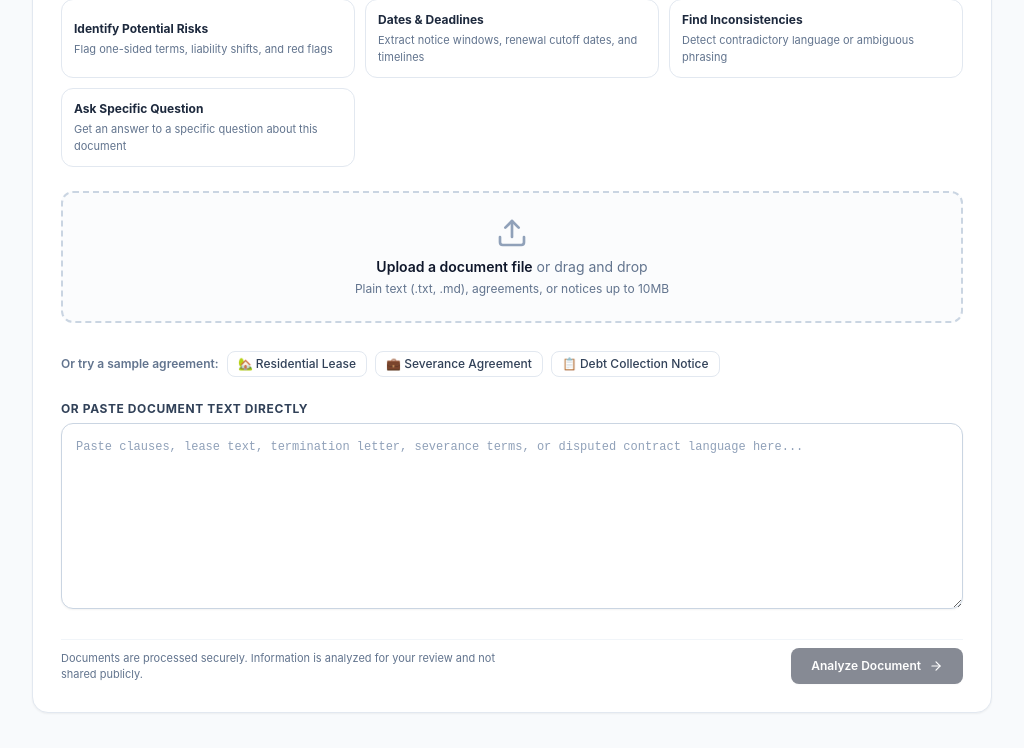
it: DocumentsPage › submits text and renders document analysis findings
The width and height of the screenshot is (1024, 748).
(page scrolled)
Load sample
Click the button "🏡 Residential Lease".
click(297, 364)  # box left=227, top=351, right=367, bottom=377
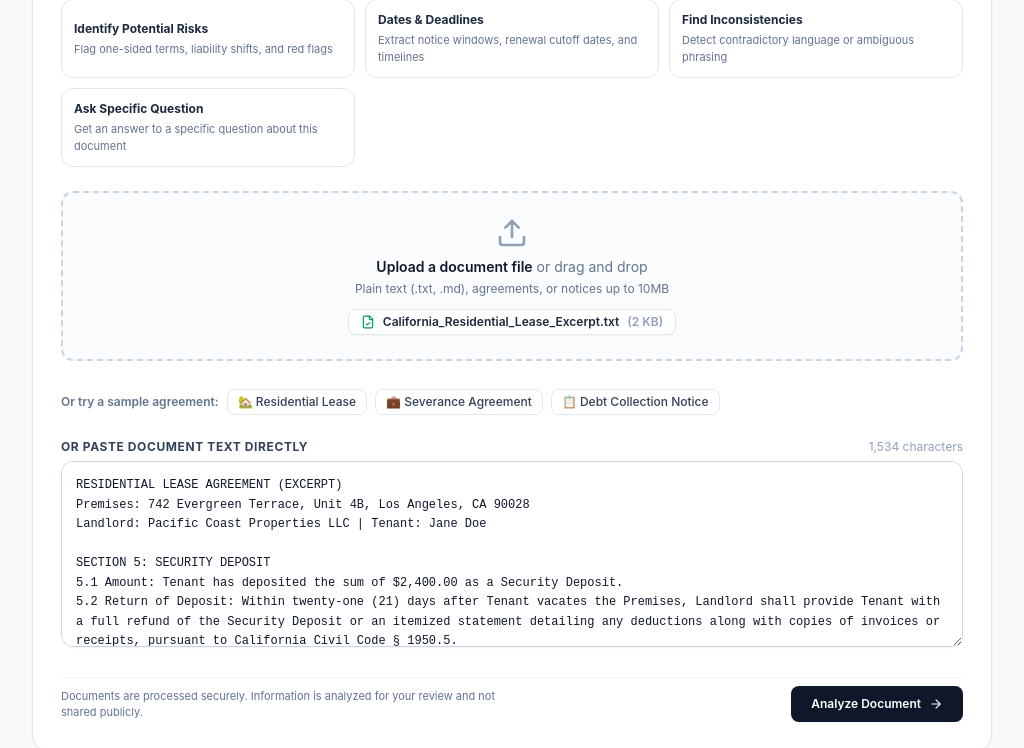
Click submit
Click the button "Analyze Document".
click(877, 704)  # box left=791, top=686, right=963, bottom=722
(page scrolled)
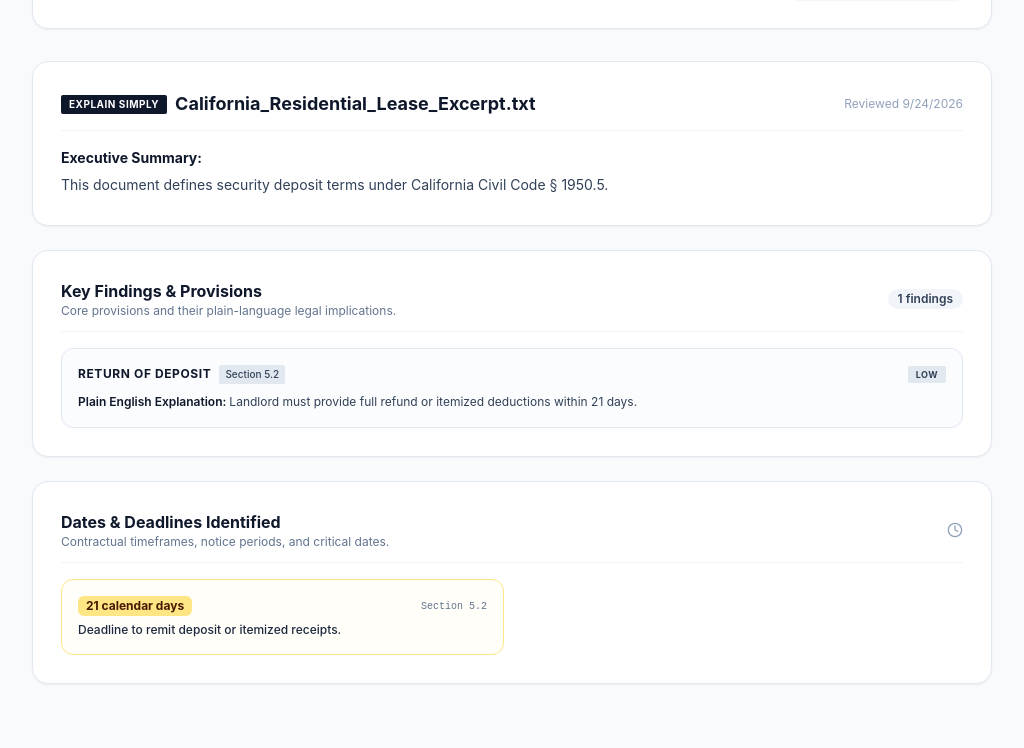
Check: the text "This document defines security deposit terms" is shown, box left=61, top=176, right=608, bottom=193
Check: the heading "Return of Deposit" is shown, box left=78, top=366, right=211, bottom=382
Check: the text "21 calendar days" is shown, box left=78, top=596, right=192, bottom=616
